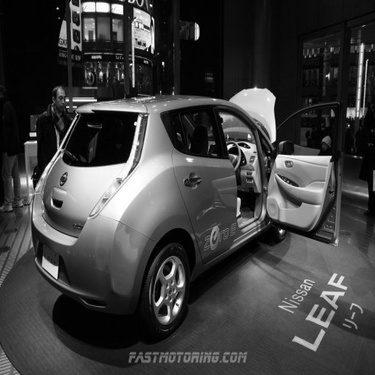car: (24, 92, 352, 338)
